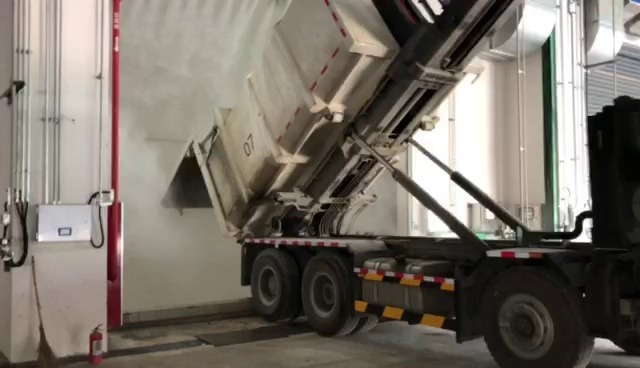dust: (117, 62, 233, 267)
truck: (198, 0, 640, 368)
